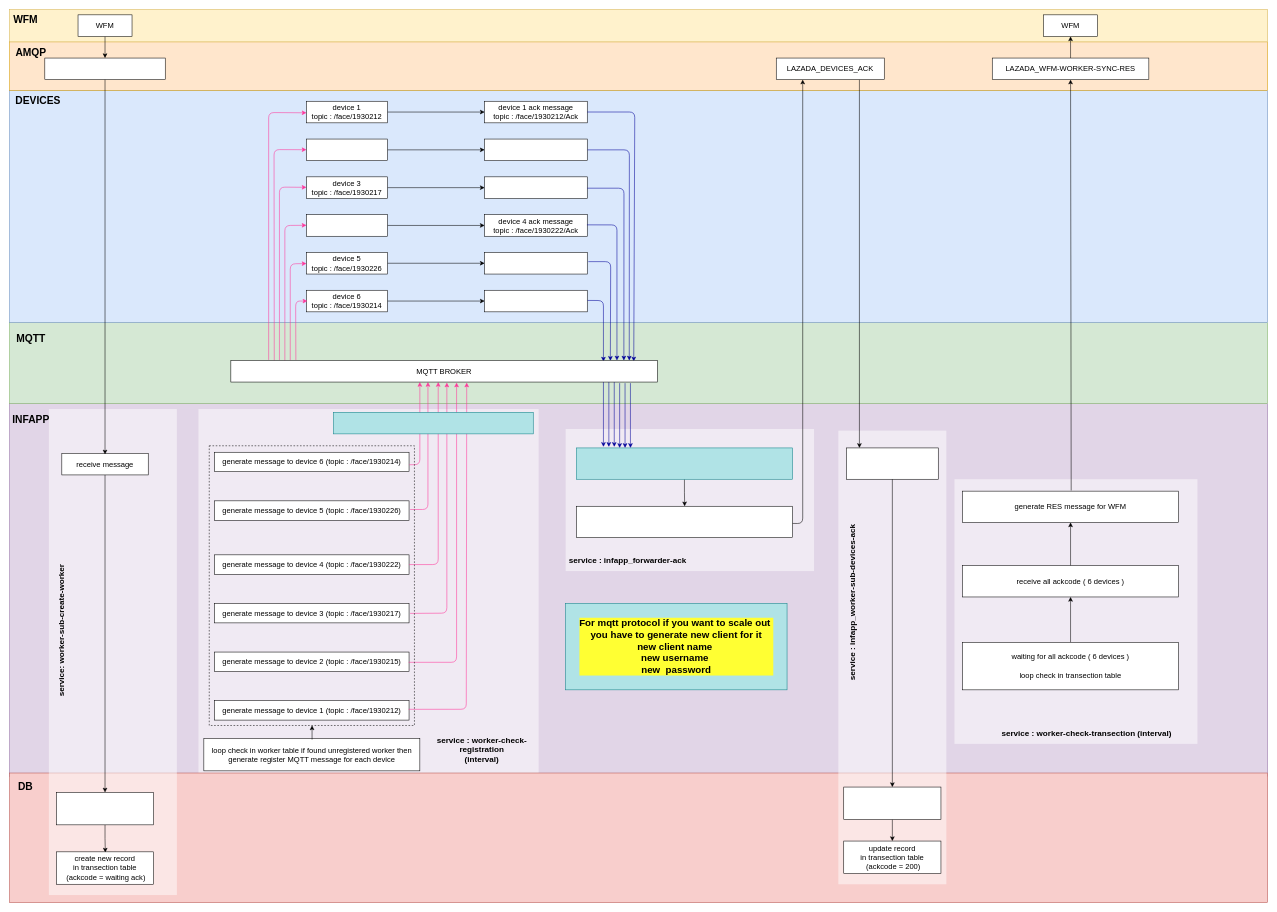
This 1277x912 diagram has some shape labels left out. The centre of each missing label's shape, as x and y in pixels:
create/update data record in worker table (register = unregistered): the point at 105,808
device 2 ack message topic : /face/1930215/Ack: the point at 535,150
device 2 topic : /face/1930215: the point at 346,150
device 3 ack message topic : /face/1930217/Ack: the point at 535,187
device 4 topic : /face/1930222: the point at 346,225
device 5 ack message topic : /face/1930226/Ack: the point at 535,263
device 6 ack message topic : /face/1930214/Ack: the point at 535,301
LAZADA_WFM-WORKER-SYNC: the point at 104,69
MQTT Client (GID_LAZADA_WFM@@@infapp01-ack) Sub topic: /face/+/Ack: the point at 684,463
MQTT Client (GID_LAZADA_WFM@@@infapp01-client): the point at 433,423
receive message , get ack code (200) ack detail (No error): the point at 892,463
send message to amqp route : amq.topic.face.*.Ack: the point at 684,522
update data record in worker table (register = registered): the point at 892,803
